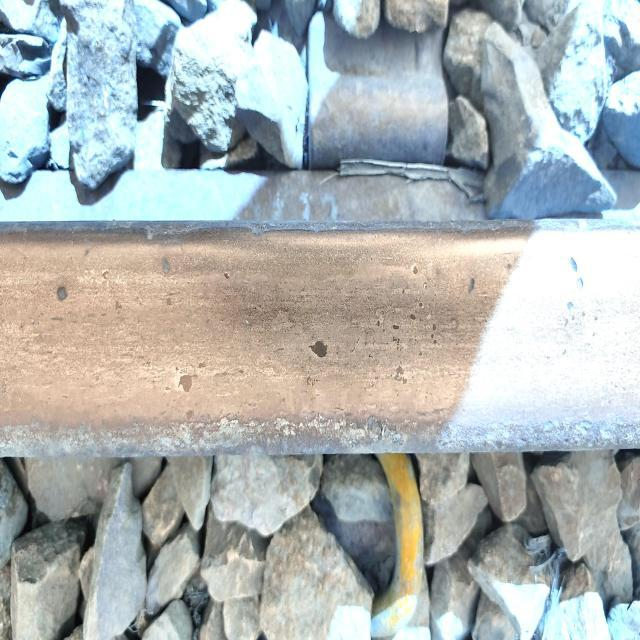Good Fasteners: (370, 453, 425, 638)
Missing Fastener: (289, 0, 459, 196)
